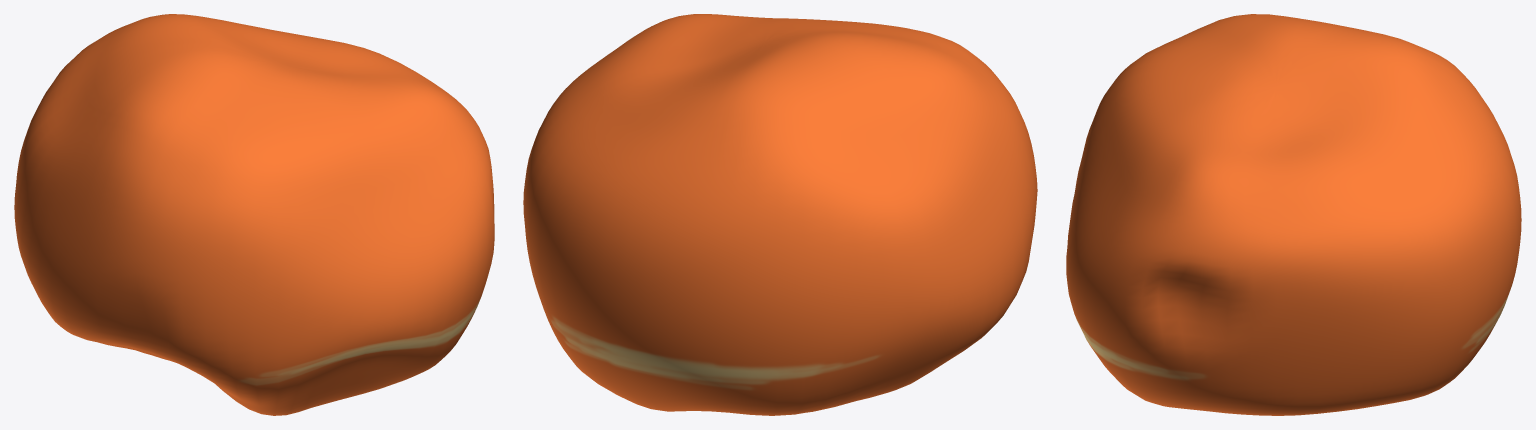
File: zyagaimo1.fbx
The picture shows the model from 3 angles, left to right: view 1: azimuth 30°, elevation 25°; view 2: azimuth 150°, elevation 25°; view 3: azimuth 270°, elevation 25°; orthographic projection. The views are drawn at different scales.
Parts seen in each view (by area): view 1: zyagaimo1; view 2: zyagaimo1; view 3: zyagaimo1.
Boxes of the visible parts, x1=… form: zyagaimo1: x1=14, y1=14, x2=494, y2=415; zyagaimo1: x1=523, y1=14, x2=1037, y2=415; zyagaimo1: x1=1066, y1=14, x2=1521, y2=415.
Size of the model in its own units: 11.32 by 8.72 by 11.21.
